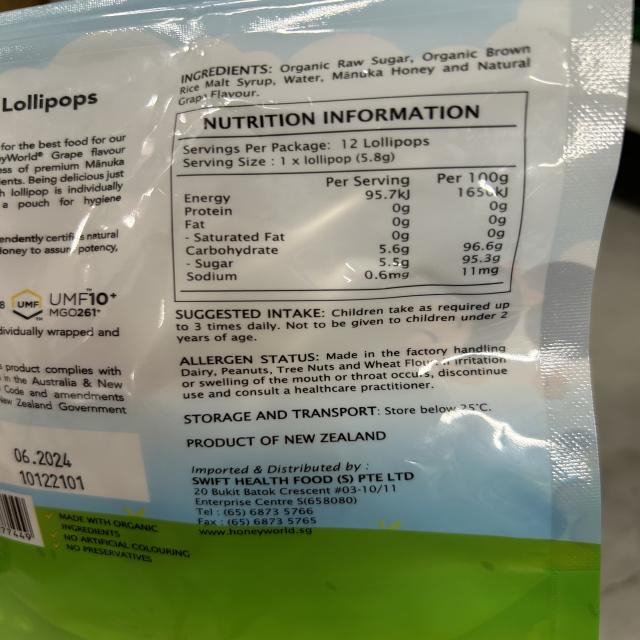object_name: (4, 3, 597, 640)
